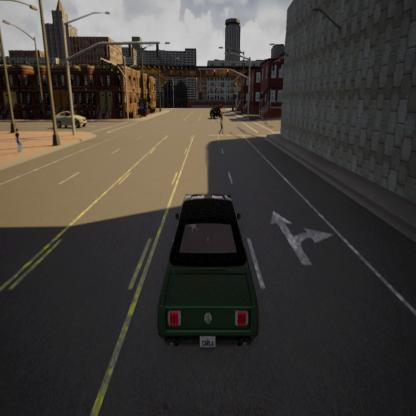Cars: (156, 172, 257, 352), (53, 107, 93, 134), (206, 98, 223, 122)
Pedestrian: (11, 122, 28, 160), (216, 115, 229, 139)
